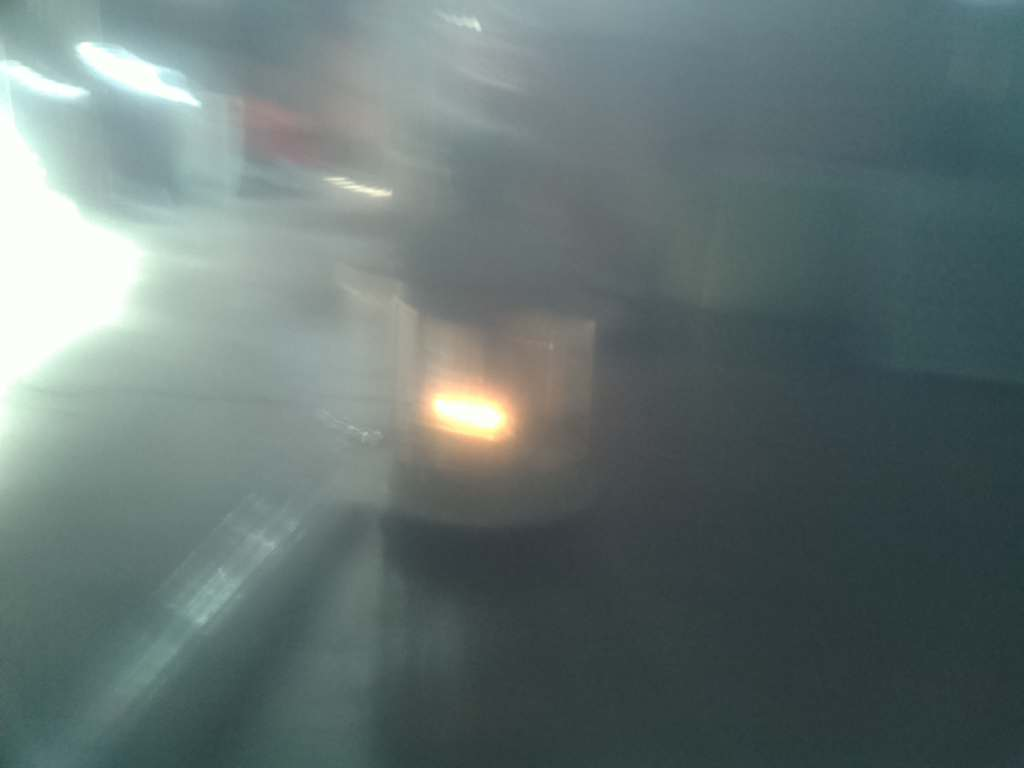fire: (389, 359, 539, 466)
